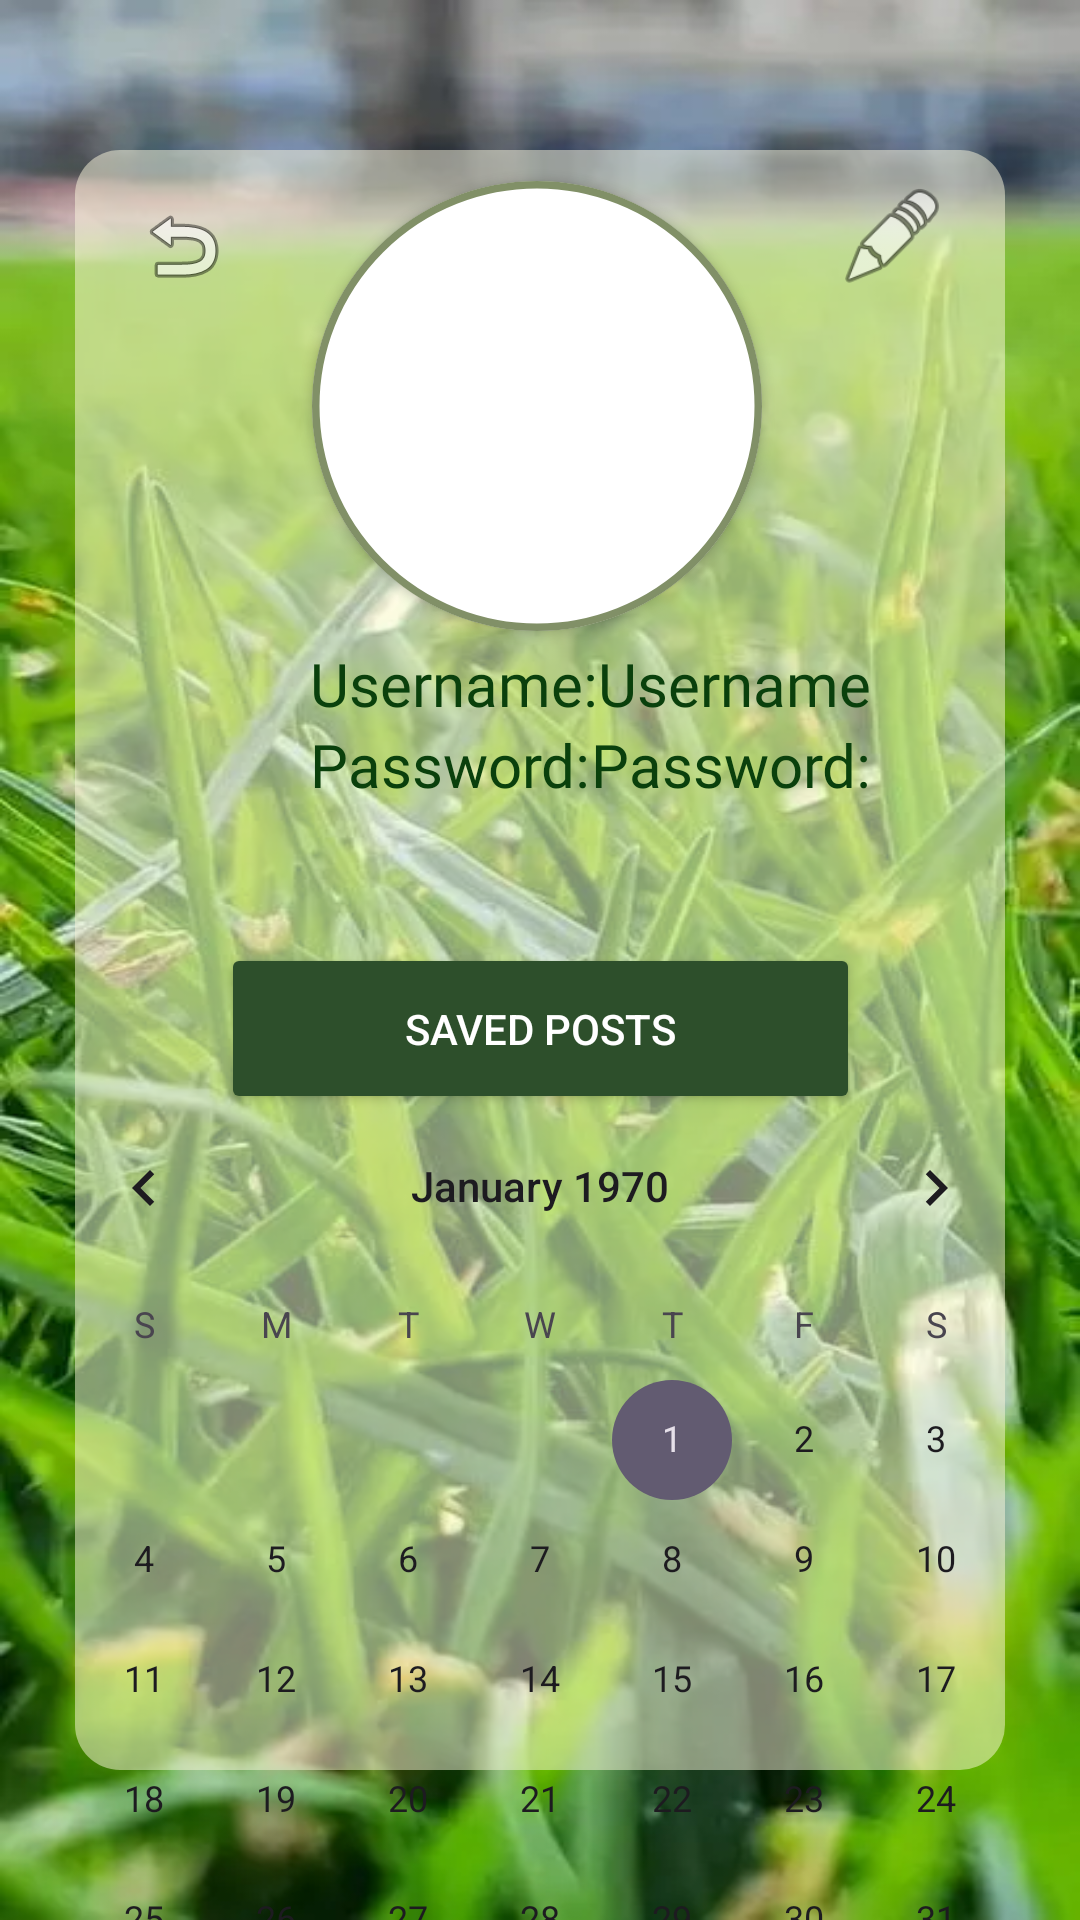

Screen size 1080px x 1920px. Icon name, then its center in pixels as (x=x, y=y):
edit: (x=892, y=236)
revert: (x=183, y=246)
